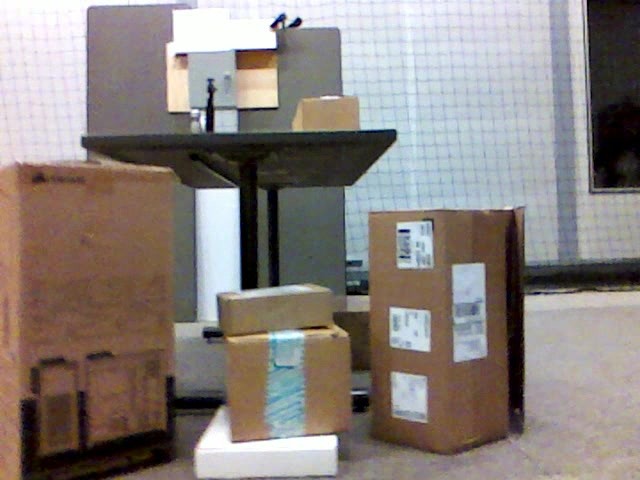box: (1, 158, 177, 480), (370, 207, 529, 454), (218, 332, 352, 442), (219, 283, 332, 328), (293, 96, 361, 132)
